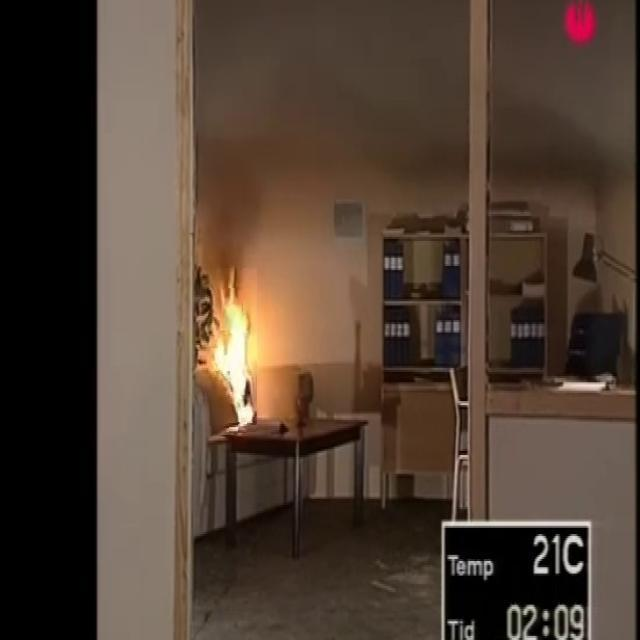fire: (205, 266, 268, 426)
